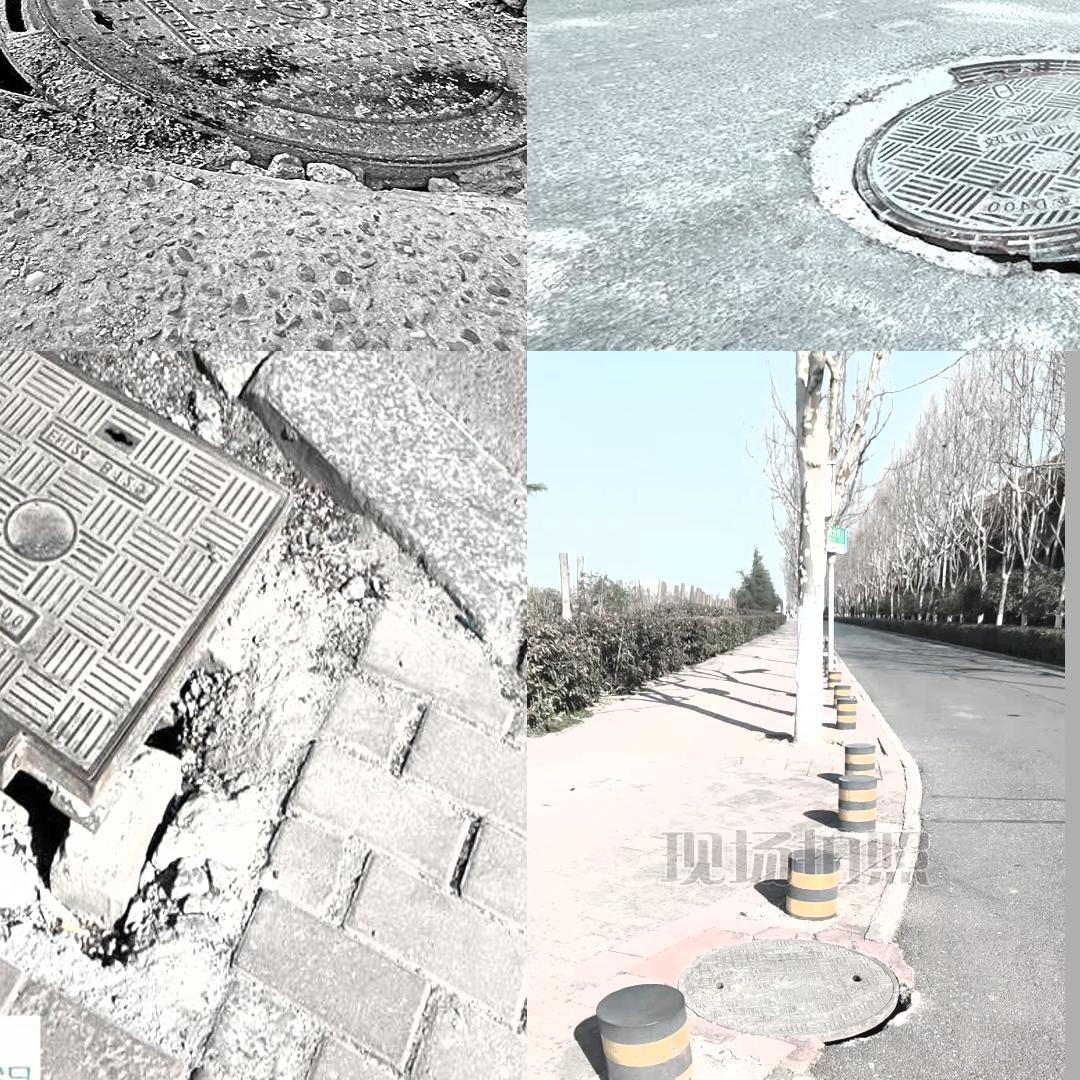circle: (0, 363, 381, 982), (0, 0, 525, 285), (733, 21, 1080, 304), (673, 930, 917, 1054)
